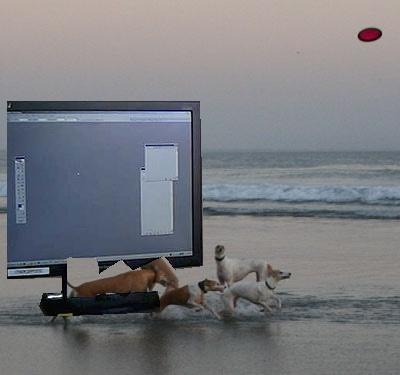tampered: (8, 102, 203, 316)
